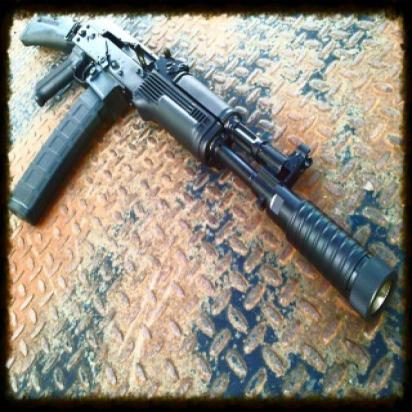Gun: (5, 5, 402, 321)
